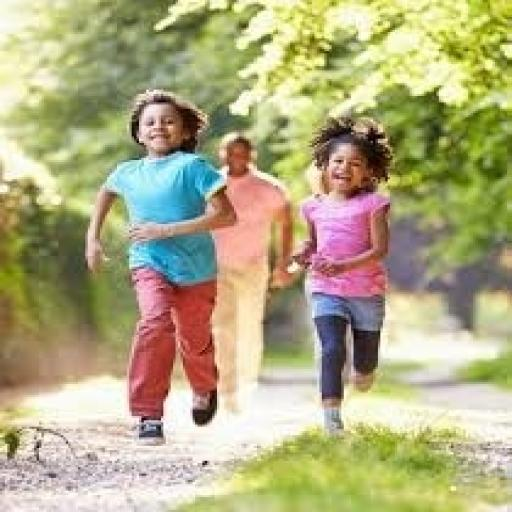running: (80, 87, 242, 448), (288, 113, 397, 440)
